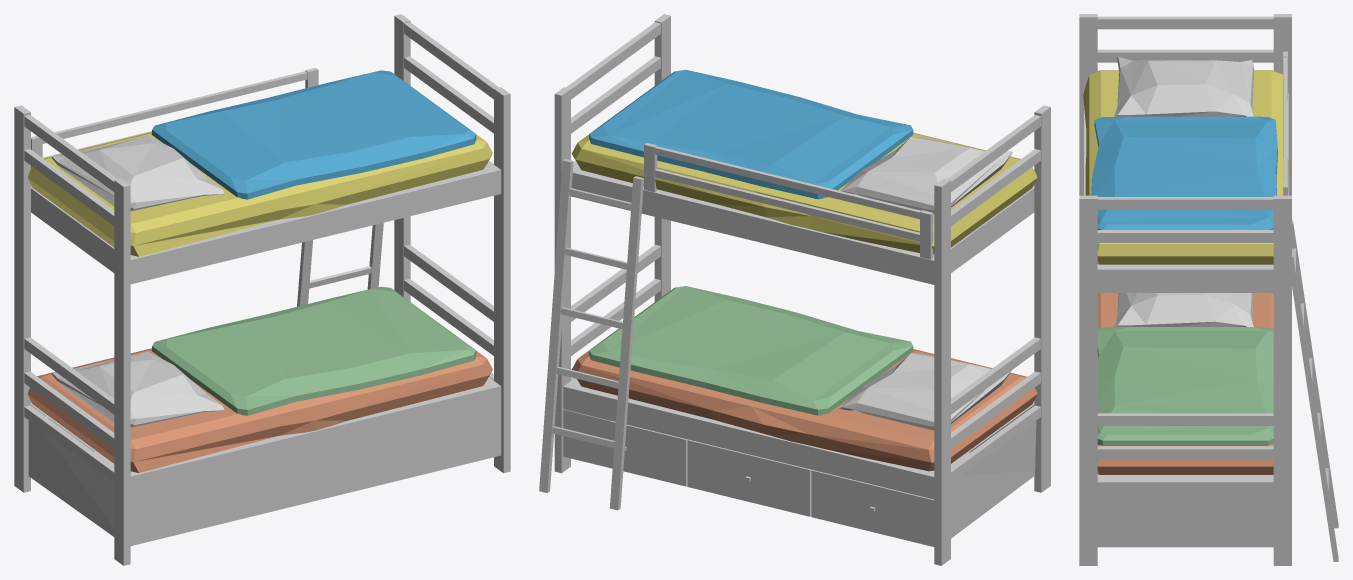
Rendered from bed_bunk.glb.
3 views of the same model, side by side, from view 1: azimuth 30°, elevation 25°; view 2: azimuth 150°, elevation 25°; view 3: azimuth 270°, elevation 25° (orthographic). The views are drawn at different scales.
Parts seen in each view (by area): view 1: furniture_035; view 2: furniture_035; view 3: furniture_035.
Part boxes in pixels (x1,y1,x2,y2): furniture_035: (14,14,510,565); furniture_035: (539,14,1050,565); furniture_035: (1079,14,1338,565).
Size of the model in its own units: 1.38 by 1.29 by 0.8238.
